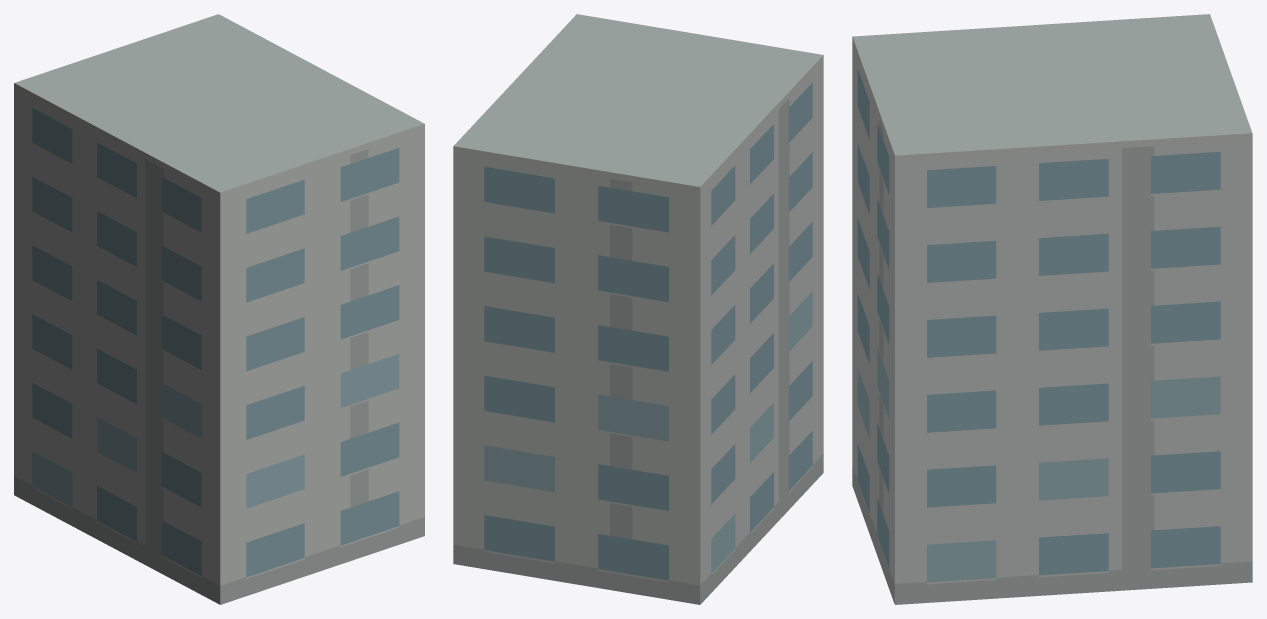
The model's file is survey-upis-32576455.glb.
3 views of the same model, side by side, from view 1: azimuth 30°, elevation 25°; view 2: azimuth 150°, elevation 25°; view 3: azimuth 270°, elevation 25° (orthographic). The views are drawn at different scales.
Parts seen in each view (by area): view 1: survey-upis-32576455.tmp; view 2: survey-upis-32576455.tmp; view 3: survey-upis-32576455.tmp.
Boxes of the visible parts, x1,y1,x2,y2 form: survey-upis-32576455.tmp: [14, 14, 424, 604]; survey-upis-32576455.tmp: [453, 14, 823, 604]; survey-upis-32576455.tmp: [852, 14, 1252, 604].
Bounding box in the file's own units: 10.86 × 16.05 × 12.96.
